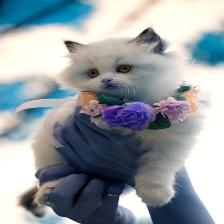kedo: (64, 28, 180, 96)
